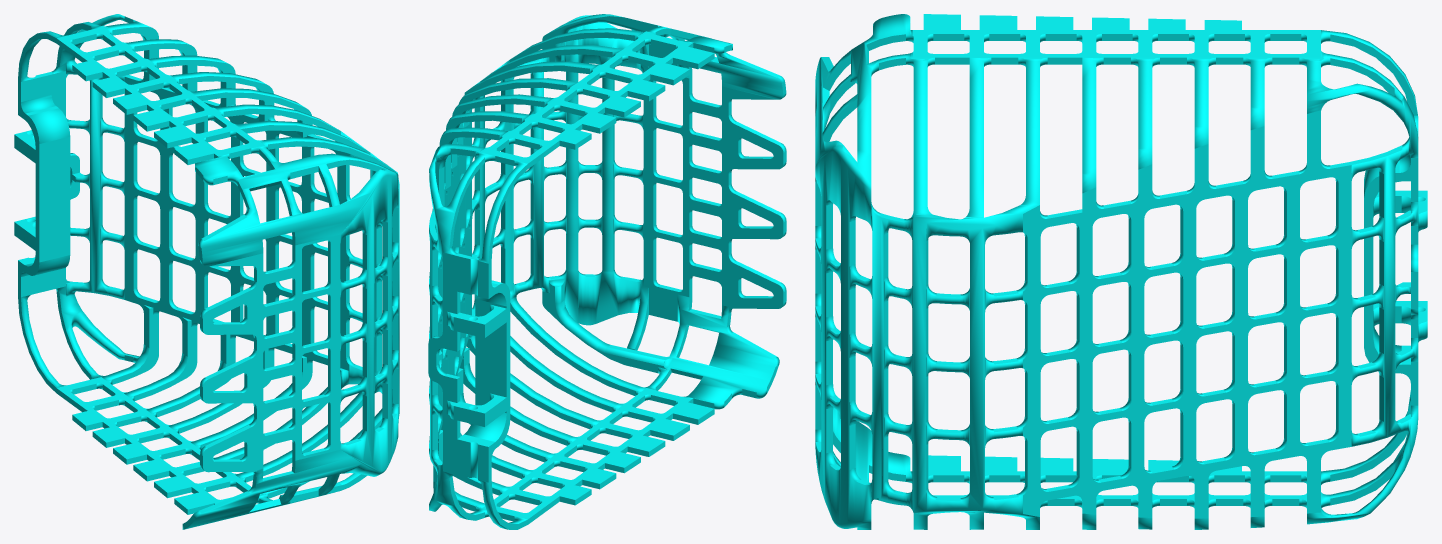
The model's file is Jaw.dae.
The picture shows the model from 3 angles, left to right: view 1: azimuth 30°, elevation 25°; view 2: azimuth 150°, elevation 25°; view 3: azimuth 270°, elevation 25°; orthographic projection. The views are drawn at different scales.
Visible parts, largest first — view 1: Schnitt-LinearFBXASC032austragen22; view 2: Schnitt-LinearFBXASC032austragen22; view 3: Schnitt-LinearFBXASC032austragen22.
Boxes of the visible parts, <box> form: Schnitt-LinearFBXASC032austragen22: <box>14,14,399,529</box>; Schnitt-LinearFBXASC032austragen22: <box>428,14,786,529</box>; Schnitt-LinearFBXASC032austragen22: <box>815,14,1427,529</box>.
Size of the model in its own units: 0.1402 by 0.2453 by 0.198.
